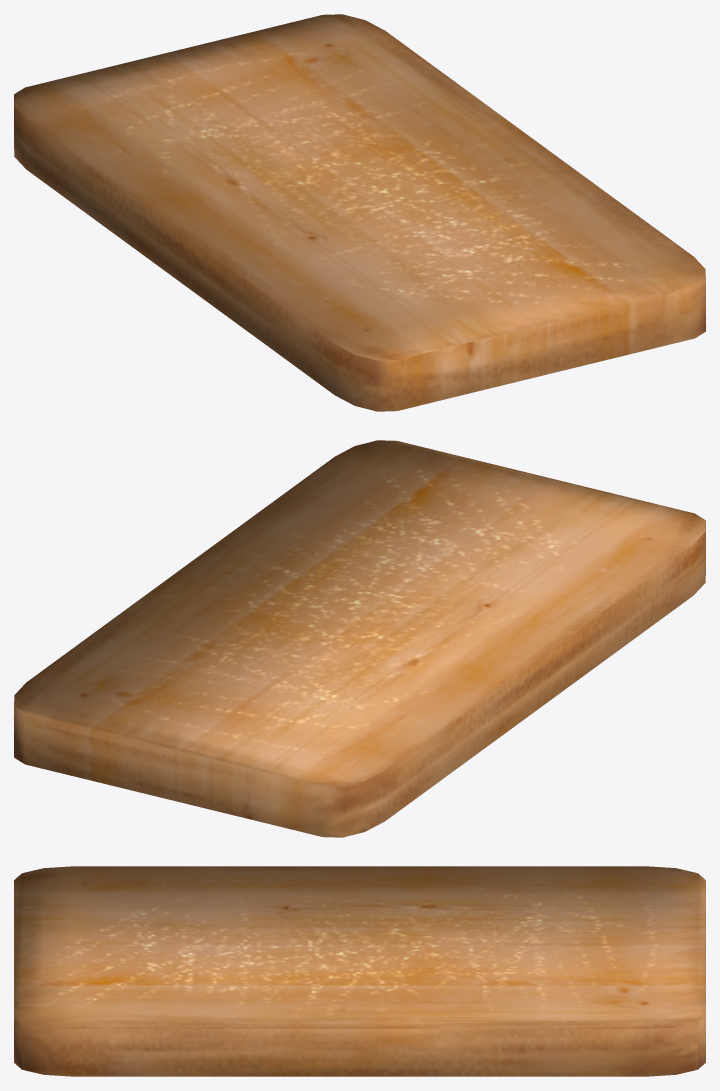
Rendered from ChoppingBoard.glb.
3 renders of one model, top to bottom at view 1: azimuth 30°, elevation 25°; view 2: azimuth 150°, elevation 25°; view 3: azimuth 270°, elevation 25°, orthographic. The views are drawn at different scales.
Parts seen in each view (by area): view 1: Cube; view 2: Cube; view 3: Cube.
Boxes of the visible parts, bbox=[...] form: Cube: bbox=[14, 14, 705, 411]; Cube: bbox=[14, 440, 705, 837]; Cube: bbox=[14, 866, 705, 1076].
Bounding box in the file's own units: 0.8998 × 0.1225 × 1.62.
Materials: 1 (1 with a texture image).
